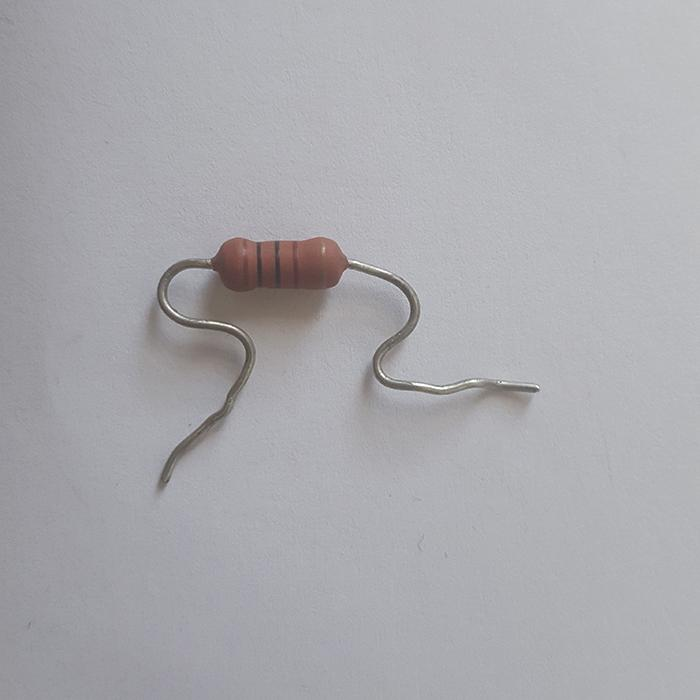resistor: (212, 236, 348, 290)
